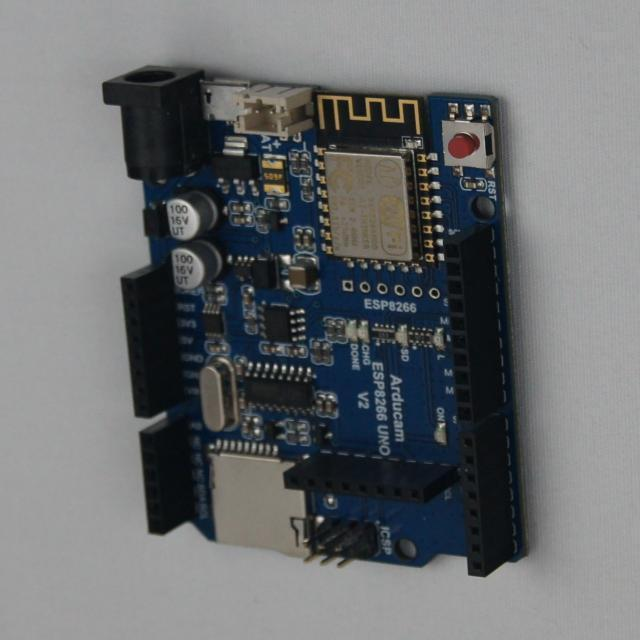Arduino Uno Camera Shield: (103, 69, 525, 577)
